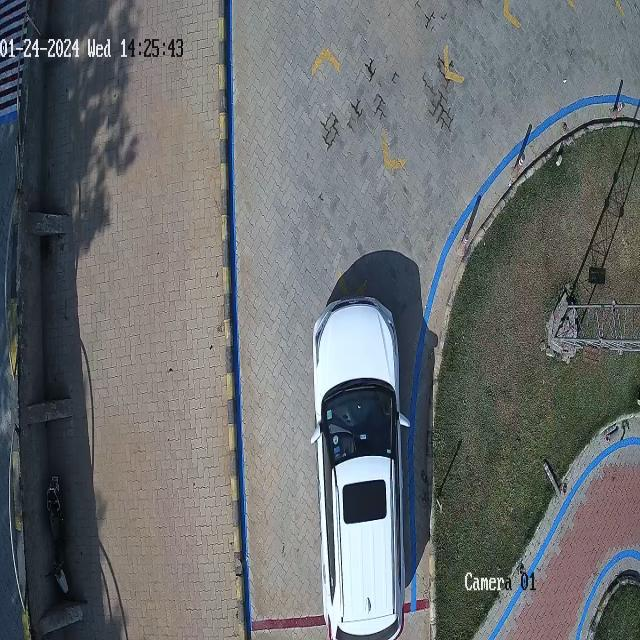car: (312, 298, 408, 639)
